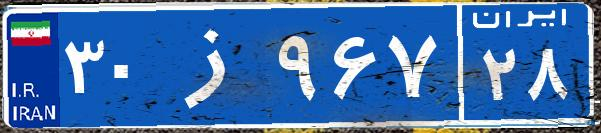0: (110, 28, 158, 105)
2: (475, 38, 525, 113)
3: (57, 26, 110, 107)
6: (330, 28, 385, 110)
7: (385, 28, 445, 110)
8: (525, 38, 570, 115)
9: (273, 28, 330, 110)
ز: (158, 15, 273, 115)
